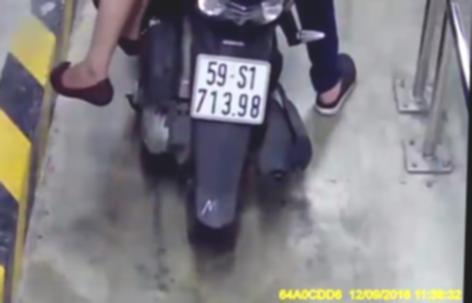License_Plate: (185, 49, 276, 128)
